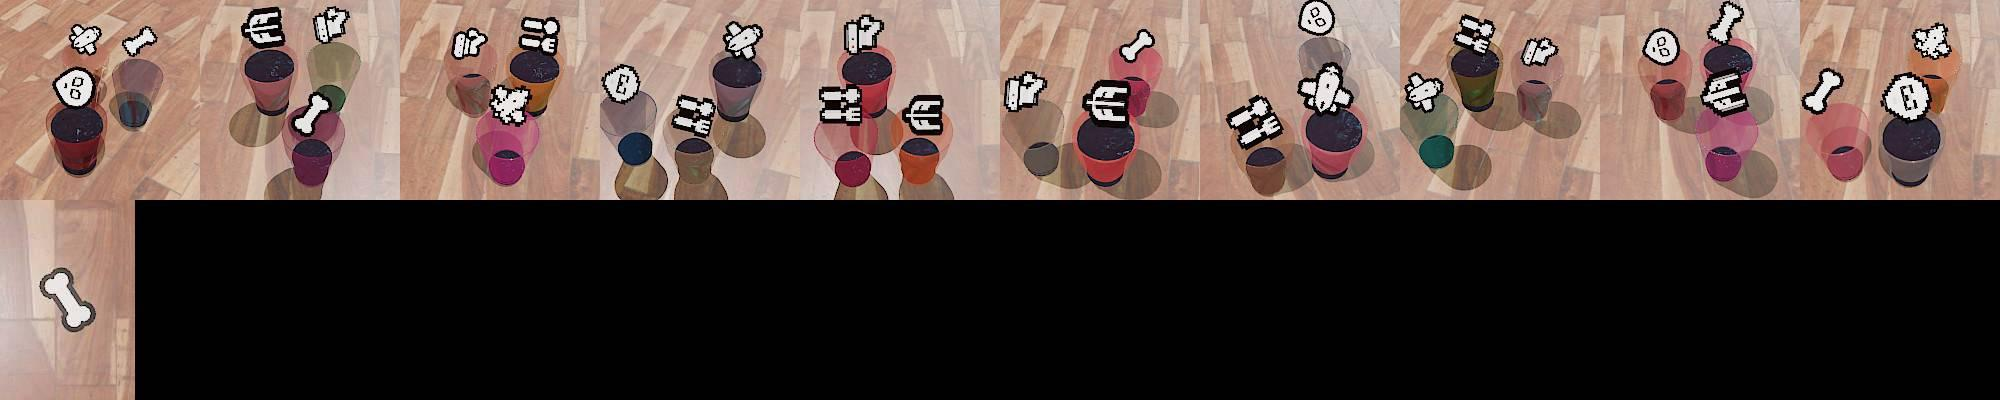icon: (38, 266, 94, 332), (1226, 96, 1282, 152), (1296, 60, 1353, 115), (1082, 78, 1135, 129), (1881, 73, 1934, 120), (1700, 69, 1750, 117), (670, 93, 717, 138), (51, 66, 97, 110), (241, 6, 287, 50), (1801, 68, 1843, 115), (291, 89, 334, 134), (487, 83, 533, 125), (818, 84, 864, 126), (1003, 69, 1046, 112), (517, 17, 561, 59), (1450, 14, 1496, 55), (902, 94, 944, 138), (843, 15, 885, 59), (1404, 70, 1445, 113), (722, 19, 764, 60), (1707, 0, 1745, 45), (1912, 20, 1953, 60), (601, 64, 640, 103), (1642, 27, 1680, 66), (312, 5, 349, 45), (1297, 0, 1337, 37), (1119, 28, 1156, 64), (452, 27, 489, 61), (1519, 36, 1559, 68), (120, 25, 157, 59), (69, 23, 102, 56)
